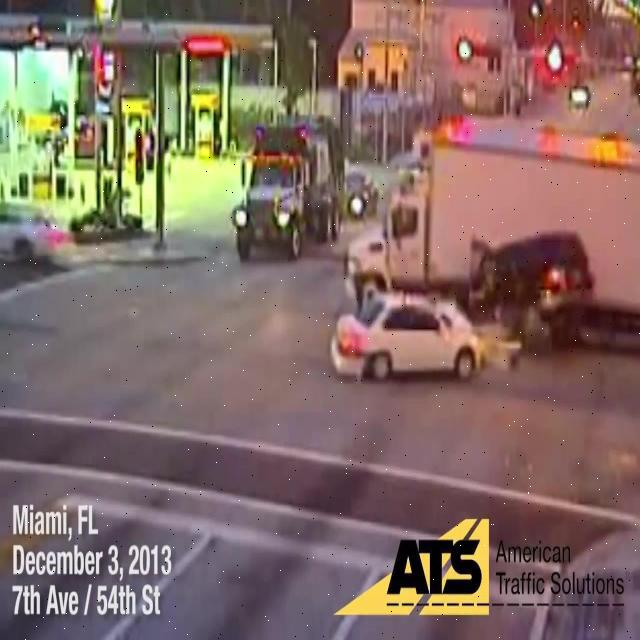severe: (343, 109, 640, 347)
